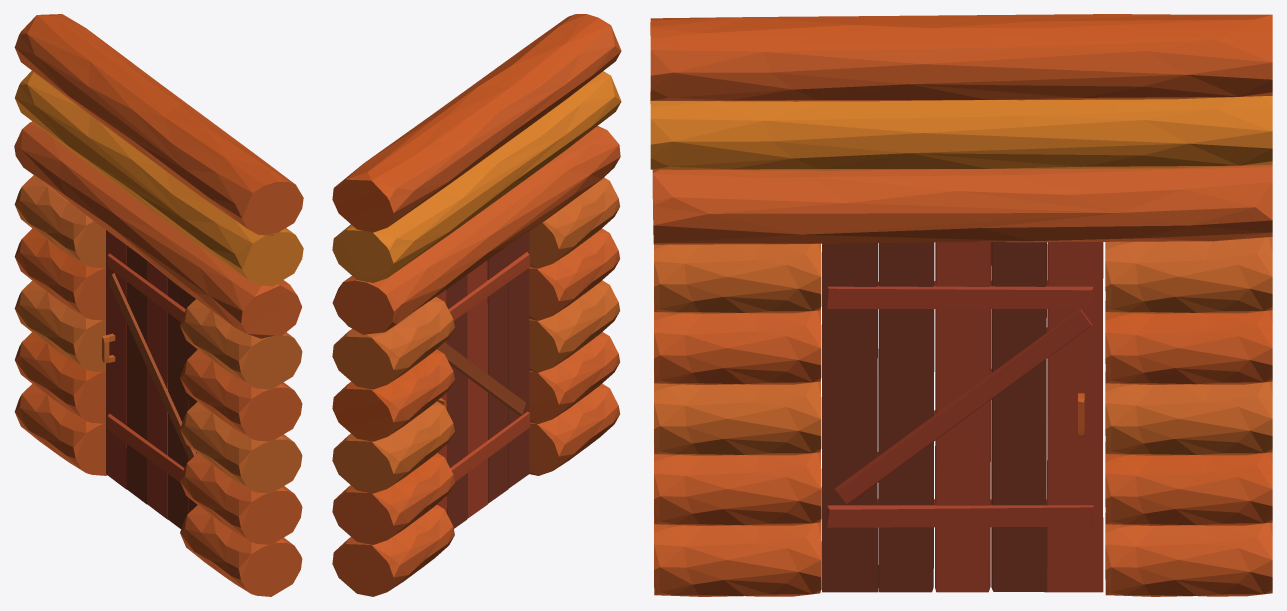
The model's file is Wall wooden door.fbx.
The picture shows the model from 3 angles, left to right: view 1: azimuth 30°, elevation 25°; view 2: azimuth 150°, elevation 25°; view 3: azimuth 270°, elevation 25°; orthographic projection. The views are drawn at different scales.
Parts seen in each view (by area): view 1: Wall wooden door, Door; view 2: Wall wooden door, Door; view 3: Wall wooden door, Door.
Part boxes in pixels (<box>): Wall wooden door: <box>14,14,303,596</box>; Door: <box>102,230,197,528</box>; Wall wooden door: <box>332,14,621,596</box>; Door: <box>436,231,530,528</box>; Wall wooden door: <box>650,14,1272,596</box>; Door: <box>821,242,1103,592</box>.
Bounding box in the file's own units: 0.48 × 3.04 × 2.99.
